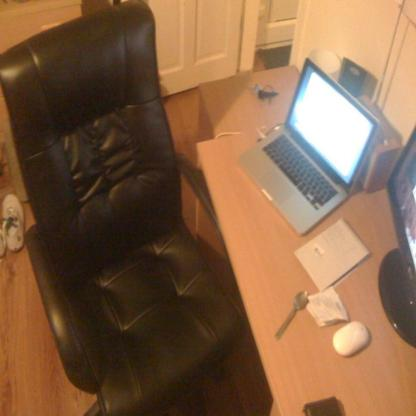board: (242, 54, 390, 241)
